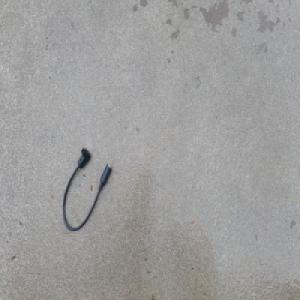Wire: (61, 146, 112, 232)
